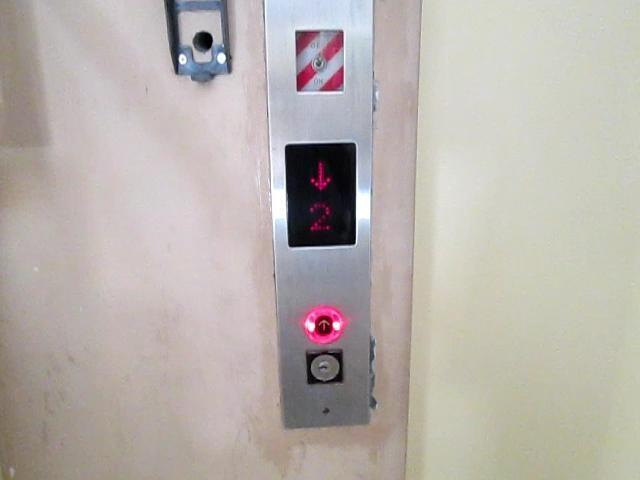keyhole: (302, 347, 344, 384)
led: (280, 138, 363, 251)
unknown: (305, 45, 332, 77)
up: (301, 303, 348, 345)
